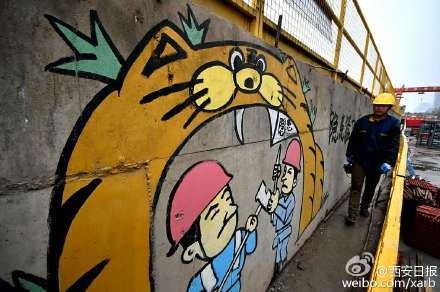yellow: (369, 91, 396, 118)
